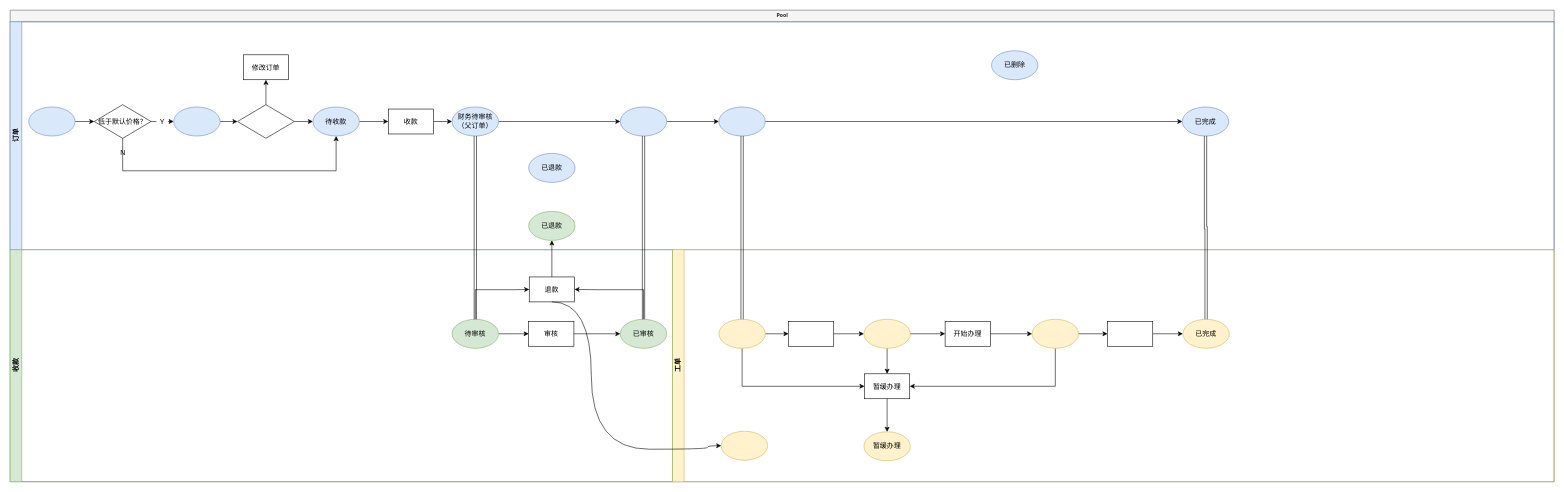
Some shapes in this 1564 by 492 pixel diagram are drawn without their labels. The shapes that lost their labels are listed below. From the top down, each one's centre as x and y in pixels, then its label:
point 51,121: 新建订单
point 196,121: 待主管审批
point 265,121: 审批通过？
point 643,121: 待交接
point 741,121: 已交接
point 741,333: 待分配
point 811,333: 分配
point 886,333: 分配中
point 1055,333: 进行中
point 1130,333: 下一步
point 744,445: 已终止
